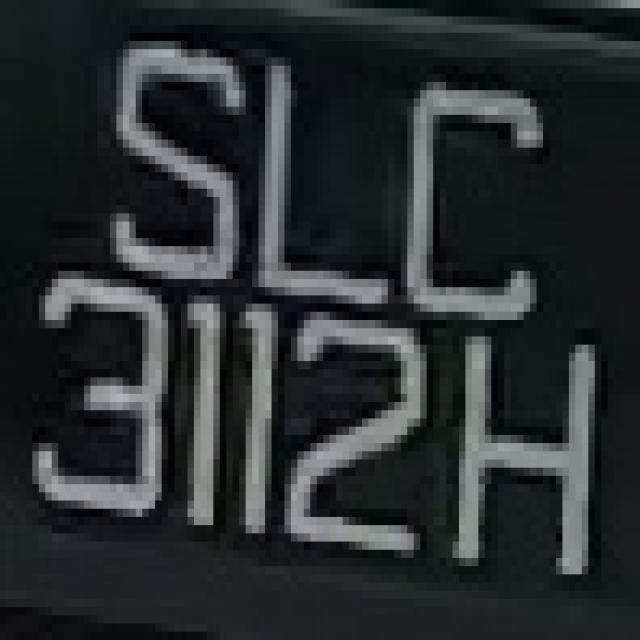1: (213, 270, 284, 582), (168, 279, 233, 550)
2: (278, 312, 433, 574)
3: (13, 238, 168, 541)
C: (388, 58, 562, 336)
H: (440, 320, 614, 574)
L: (239, 49, 388, 312)
S: (104, 24, 245, 304)
